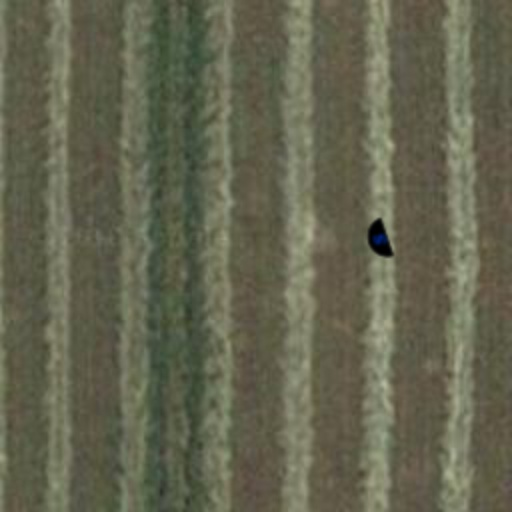semicircle: (350, 212, 406, 268)
